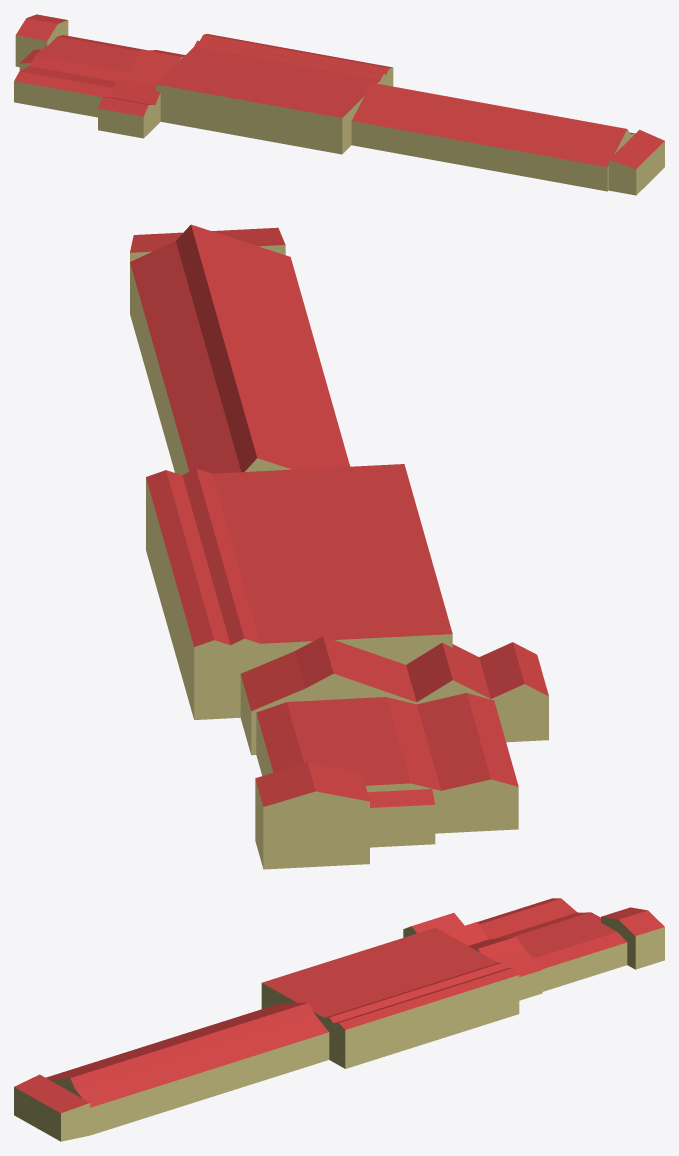
The picture shows the model from 3 angles, top to bottom: view 1: azimuth 30°, elevation 25°; view 2: azimuth 150°, elevation 25°; view 3: azimuth 270°, elevation 25°; orthographic projection. The views are drawn at different scales.
Size of the model in its own units: 97.54 by 122 by 9.53.
